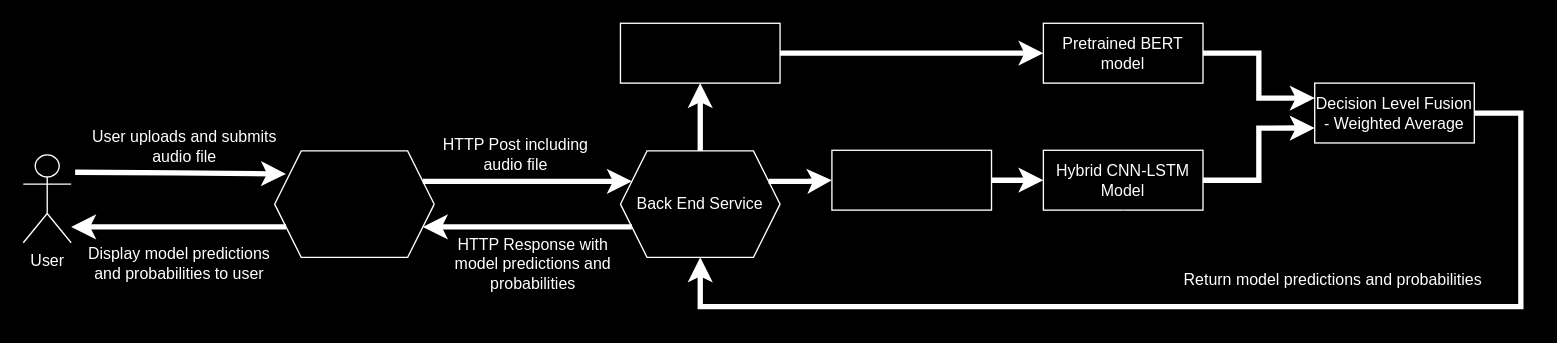
Some shapes in this 1557 by 343 pixel diagram are drawn without their labels. Each missing label, with the centre of its shape:
"Audio Feature Extraction" goes at [911,179].
"Front End Service" goes at [353,203].
"Transcription Generation" goes at [699,52].
